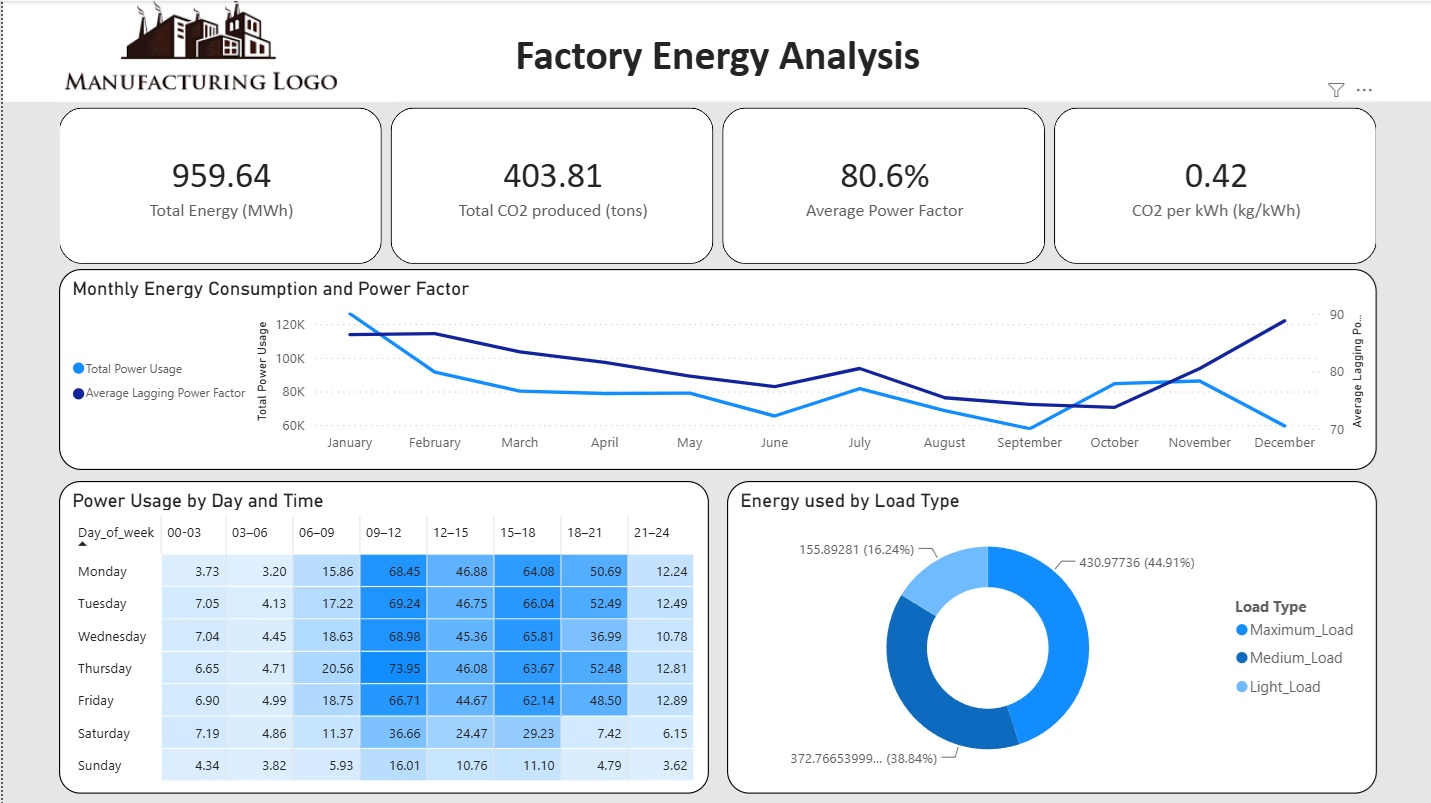

Layout of this report page (visuals, bound fields, positions):
{"tool":"powerbi","page":{"name":"Page 1","canvas":[1280,720],"ordinal":0},"visuals":[{"type":"shape","box":[0,0,1280,90],"z":0},{"type":"image","box":[0,0,350,90.2],"z":1000},{"type":"cardVisual","fields":{"Data":["energy_usage_clean (2).Total Energy (kWh)","energy_usage_clean (2).Total CO2 produced (tons)","energy_usage_clean (2).Average Power Factor","energy_usage_clean (2).CO2 produceded per kWh used"]},"box":[50,90,1180,150],"z":2000},{"type":"lineChart","title":"Monthly Energy Consumption and Power Factor","fields":{"Y":["Sum(energy_usage_clean (2).usage_kwh)"],"Y2":["Avg(energy_usage_clean (2).lagging_power_factor)"],"Category":["energy_usage_clean (2).date.Variation.Date Hierarchy.Month"]},"box":[50,240,1180,180],"z":3000},{"type":"pivotTable","title":"Power Usage by Day and Time","fields":{"Rows":["energy_usage_clean (2).Day_of_week"],"Columns":["energy_usage_clean (2).time_block"],"Values":["Avg(energy_usage_clean (2).usage_kwh)"]},"box":[50,430,582,280],"z":4000},{"type":"textbox","box":[0,20,1280,70],"z":5000},{"type":"donutChart","title":"Energy used by Load Type","fields":{"Category":["energy_usage_clean (2).Load_Type"],"Y":["energy_usage_clean (2).Total Energy (MWh)"]},"box":[648,430,582,280],"z":6000}]}

Visuals, with their boxes in screenshot pixels (x1, y1, x2, y2), scaled from the page's 1280x720 canvas onto the 1431x803 screenshot:
shape: detection(0, 0, 1430, 100)
image: detection(0, 0, 391, 101)
cardVisual - energy_usage_clean (2).Total Energy (kWh) x energy_usage_clean (2).Total CO2 produced (tons): detection(56, 100, 1375, 268)
"Monthly Energy Consumption and Power Factor" lineChart: detection(56, 268, 1375, 468)
"Power Usage by Day and Time" pivotTable: detection(56, 480, 707, 792)
textbox: detection(0, 22, 1430, 100)
"Energy used by Load Type" donutChart: detection(724, 480, 1375, 792)
